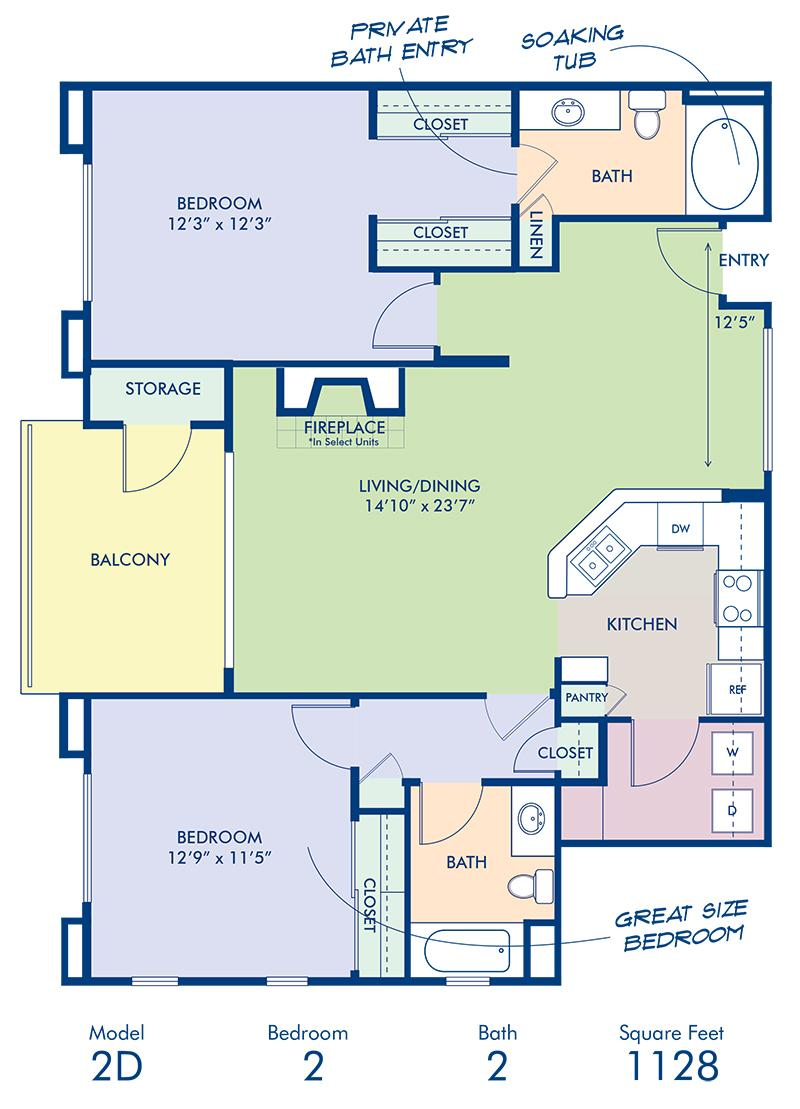door: (362, 276, 432, 357), (650, 223, 720, 304), (624, 728, 711, 792), (113, 432, 200, 496), (413, 789, 485, 853), (287, 702, 348, 773)
restroom: (513, 82, 770, 220)
window: (763, 329, 772, 470), (83, 164, 92, 302), (83, 774, 92, 903), (130, 973, 178, 985), (444, 974, 492, 986), (264, 975, 309, 986)
